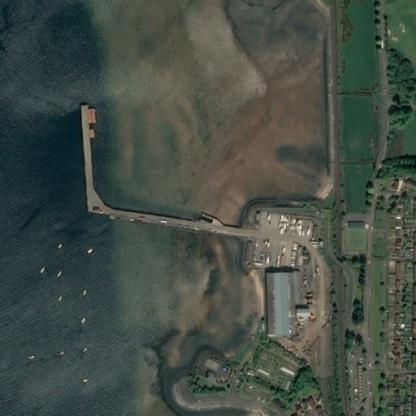ship: (51, 341, 68, 361), (77, 283, 89, 300), (53, 291, 66, 305), (76, 312, 88, 326), (83, 242, 94, 257), (35, 262, 46, 276), (77, 374, 92, 384), (54, 264, 63, 280), (53, 239, 64, 252), (77, 344, 91, 354), (24, 350, 35, 361)
